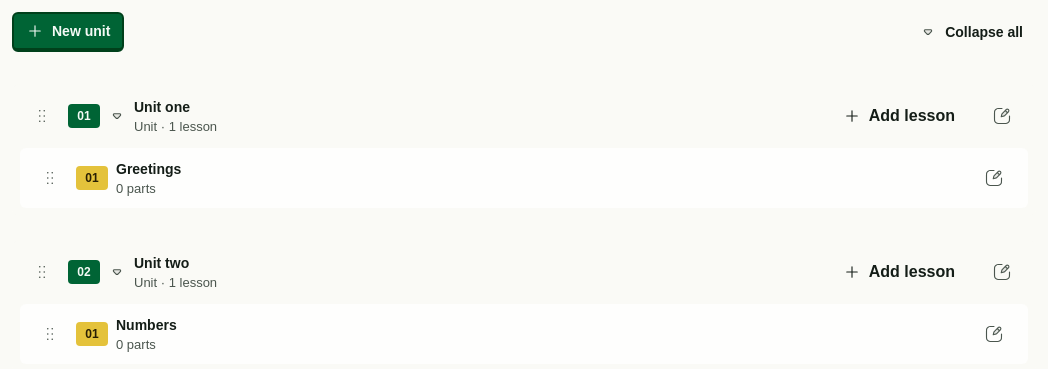
Test: CourseStructure collapsing › hides a unit's lessons when its header toggle is collapsed
Expected: the button "Greetings 0 parts" is shown, [116, 160, 964, 196]
Click the button with aria-label "Collapse Unit one": (162, 106) [108, 94, 814, 138]
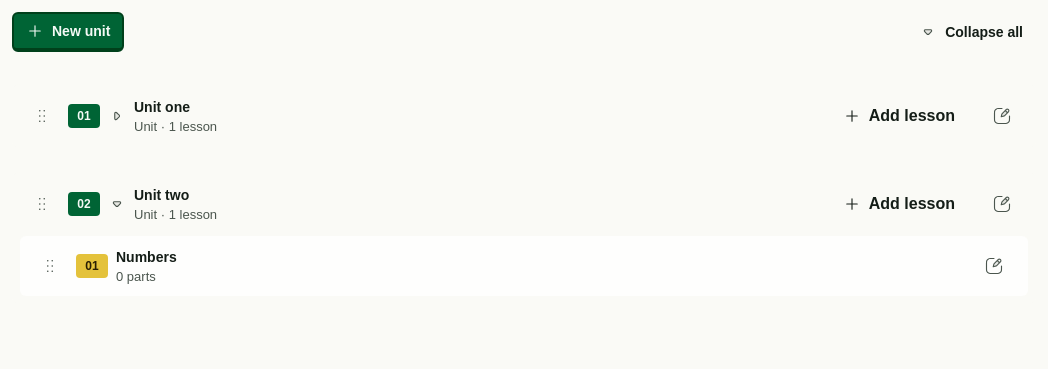
Expected: the button "Numbers 0 parts" is shown, [116, 248, 964, 284]
Now the button "Greetings" is gone
Now the button with aria-label "Expand Unit one" is collapsed
Click the button with aria-label "Expand Unit one": (162, 106) [108, 94, 814, 138]
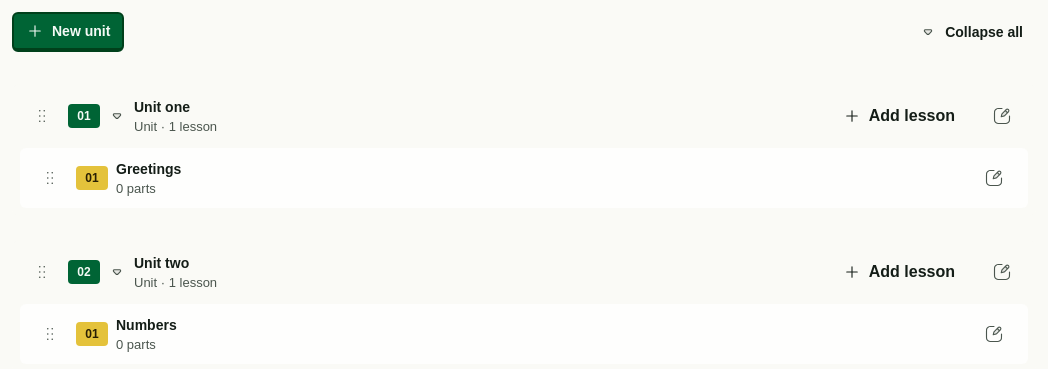
Now the button "Greetings 0 parts" is shown, box [116, 160, 964, 196]
